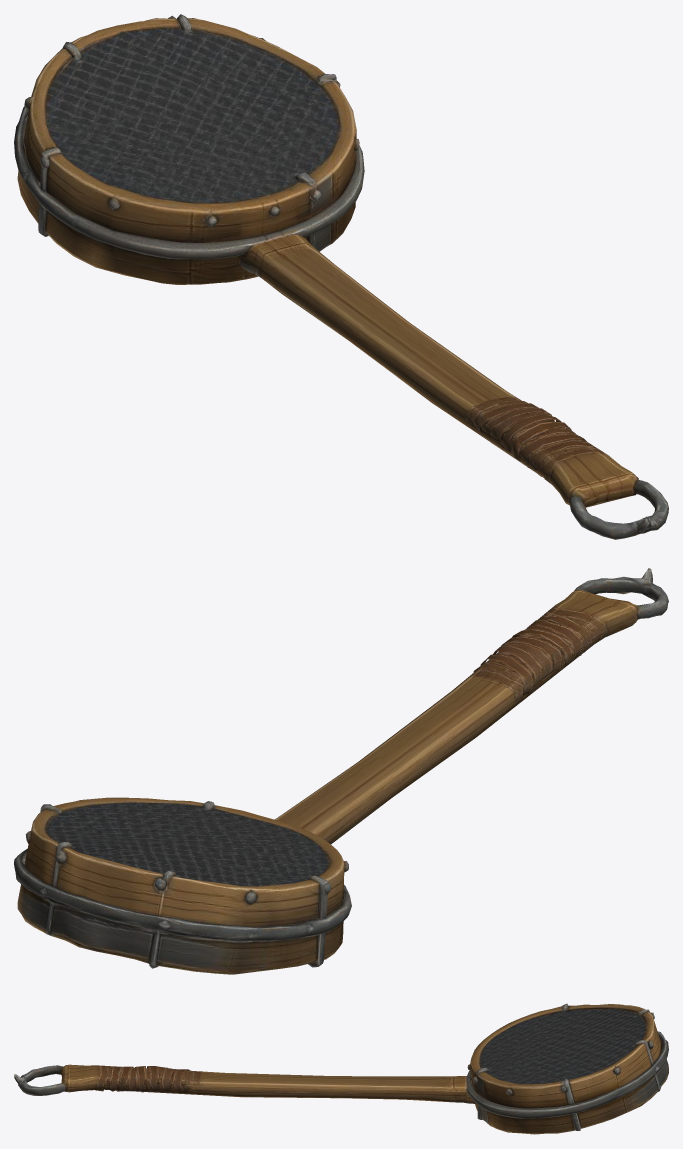
The model's file is SandSifter.glb.
3 views of the same model, one above another, from view 1: azimuth 30°, elevation 25°; view 2: azimuth 150°, elevation 25°; view 3: azimuth 270°, elevation 25° (orthographic). The views are drawn at different scales.
Visible parts, largest first — view 1: SandSifter; view 2: SandSifter; view 3: SandSifter.
Boxes of the visible parts, box(x1,y1,x2,y2) form: SandSifter: box(14, 14, 668, 539); SandSifter: box(14, 568, 668, 974); SandSifter: box(14, 1003, 668, 1134).
Bounding box in the file's own units: 0.2696 × 0.1207 × 0.8614.
Materials: 1 (1 with a texture image).
